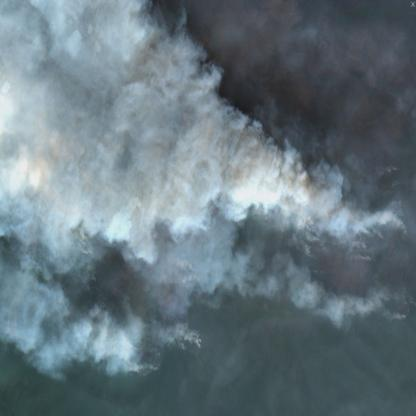fire: (343, 194, 409, 260), (364, 286, 412, 328), (162, 321, 204, 354), (299, 214, 325, 261), (127, 356, 178, 379)
